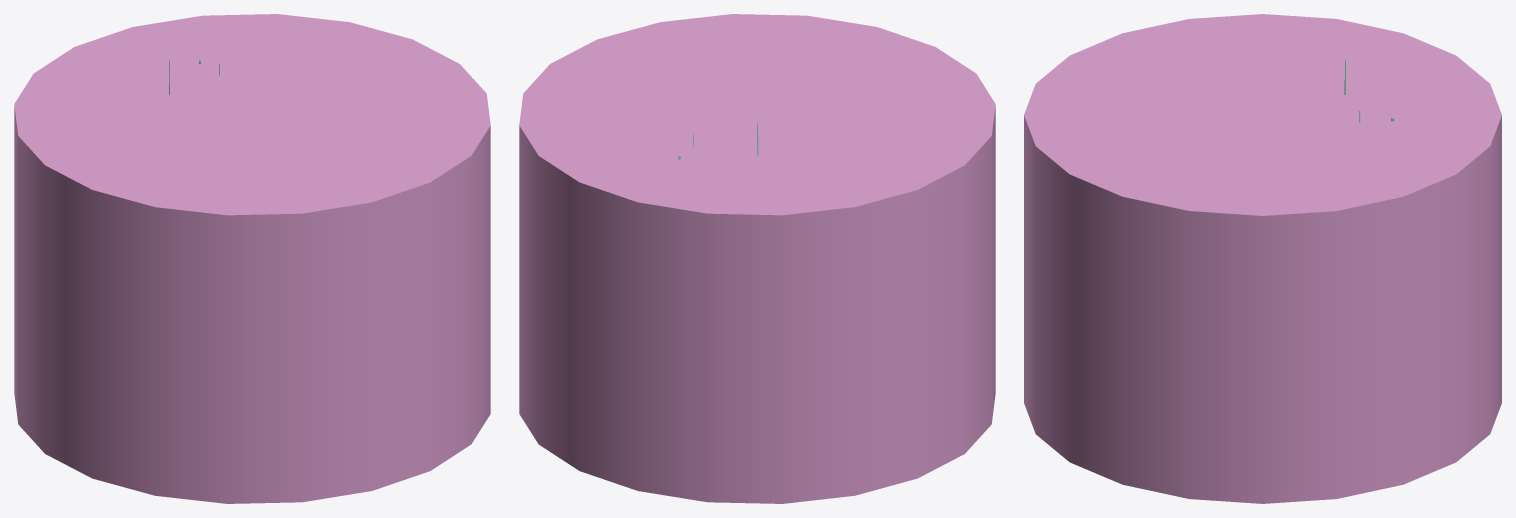
3 renders of one model, left to right at view 1: azimuth 30°, elevation 25°; view 2: azimuth 150°, elevation 25°; view 3: azimuth 270°, elevation 25°, orthographic.
Visible parts, largest first — view 1: room; view 2: room; view 3: room.
Part boxes in pixels (<box>): room: <box>14,14,490,503</box>; room: <box>519,14,995,503</box>; room: <box>1024,14,1501,503</box>.
Size of the model in its own units: 421 by 315 by 421.
